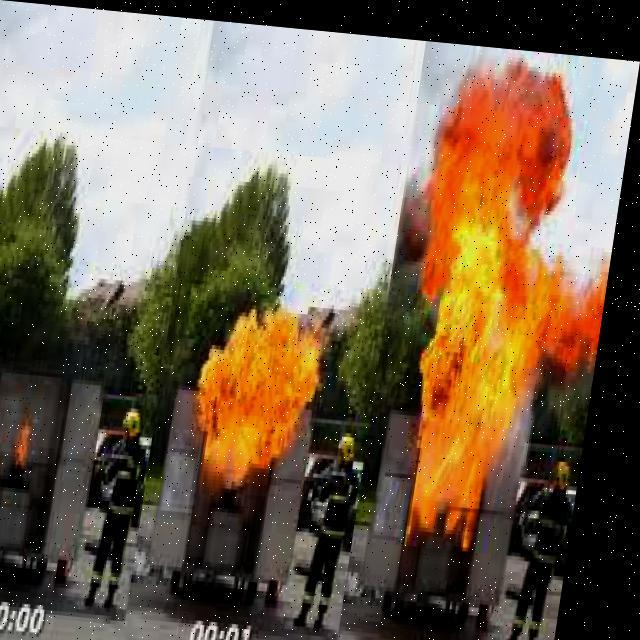Fire: (390, 38, 608, 542), (192, 292, 340, 477), (13, 407, 74, 477)
